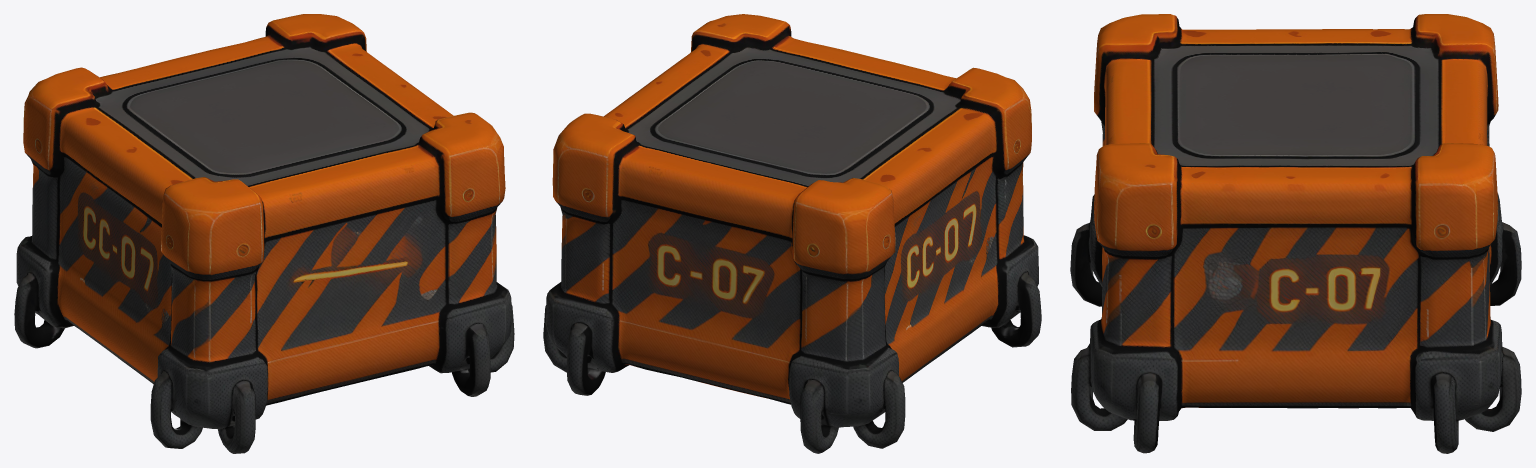
Rendered from tripo_convert_496b9b8a-6abd-4630-949d-3bec78050bba.obj.
3 views of the same model, side by side, from view 1: azimuth 30°, elevation 25°; view 2: azimuth 150°, elevation 25°; view 3: azimuth 270°, elevation 25° (orthographic). The views are drawn at different scales.
Visible parts, largest first — view 1: tripo_node_496b9b8a-6abd-4630-949d-3bec78050bba; view 2: tripo_node_496b9b8a-6abd-4630-949d-3bec78050bba; view 3: tripo_node_496b9b8a-6abd-4630-949d-3bec78050bba.
Part boxes in pixels (bbox=[...]): tripo_node_496b9b8a-6abd-4630-949d-3bec78050bba: bbox=[14, 14, 514, 453]; tripo_node_496b9b8a-6abd-4630-949d-3bec78050bba: bbox=[543, 14, 1041, 453]; tripo_node_496b9b8a-6abd-4630-949d-3bec78050bba: bbox=[1070, 14, 1521, 453].
Bounding box in the file's own units: 0.9982 × 0.6691 × 0.9899.
Materials: 1 (1 with a texture image).
